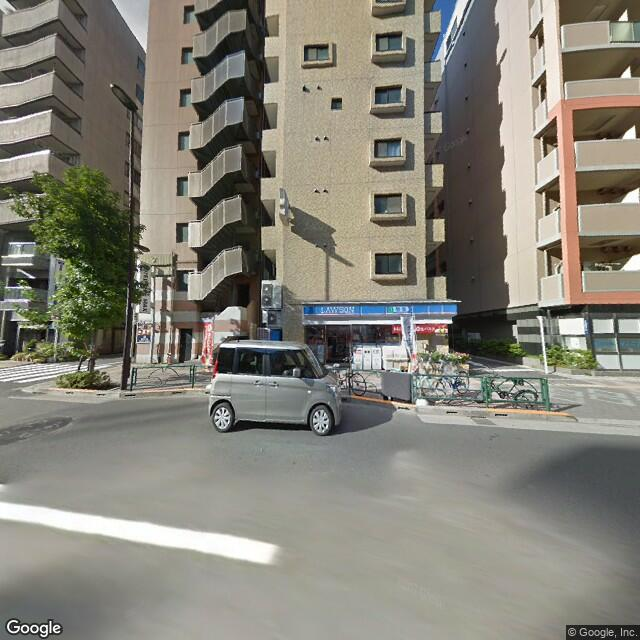lawson: (300, 296, 464, 321)
